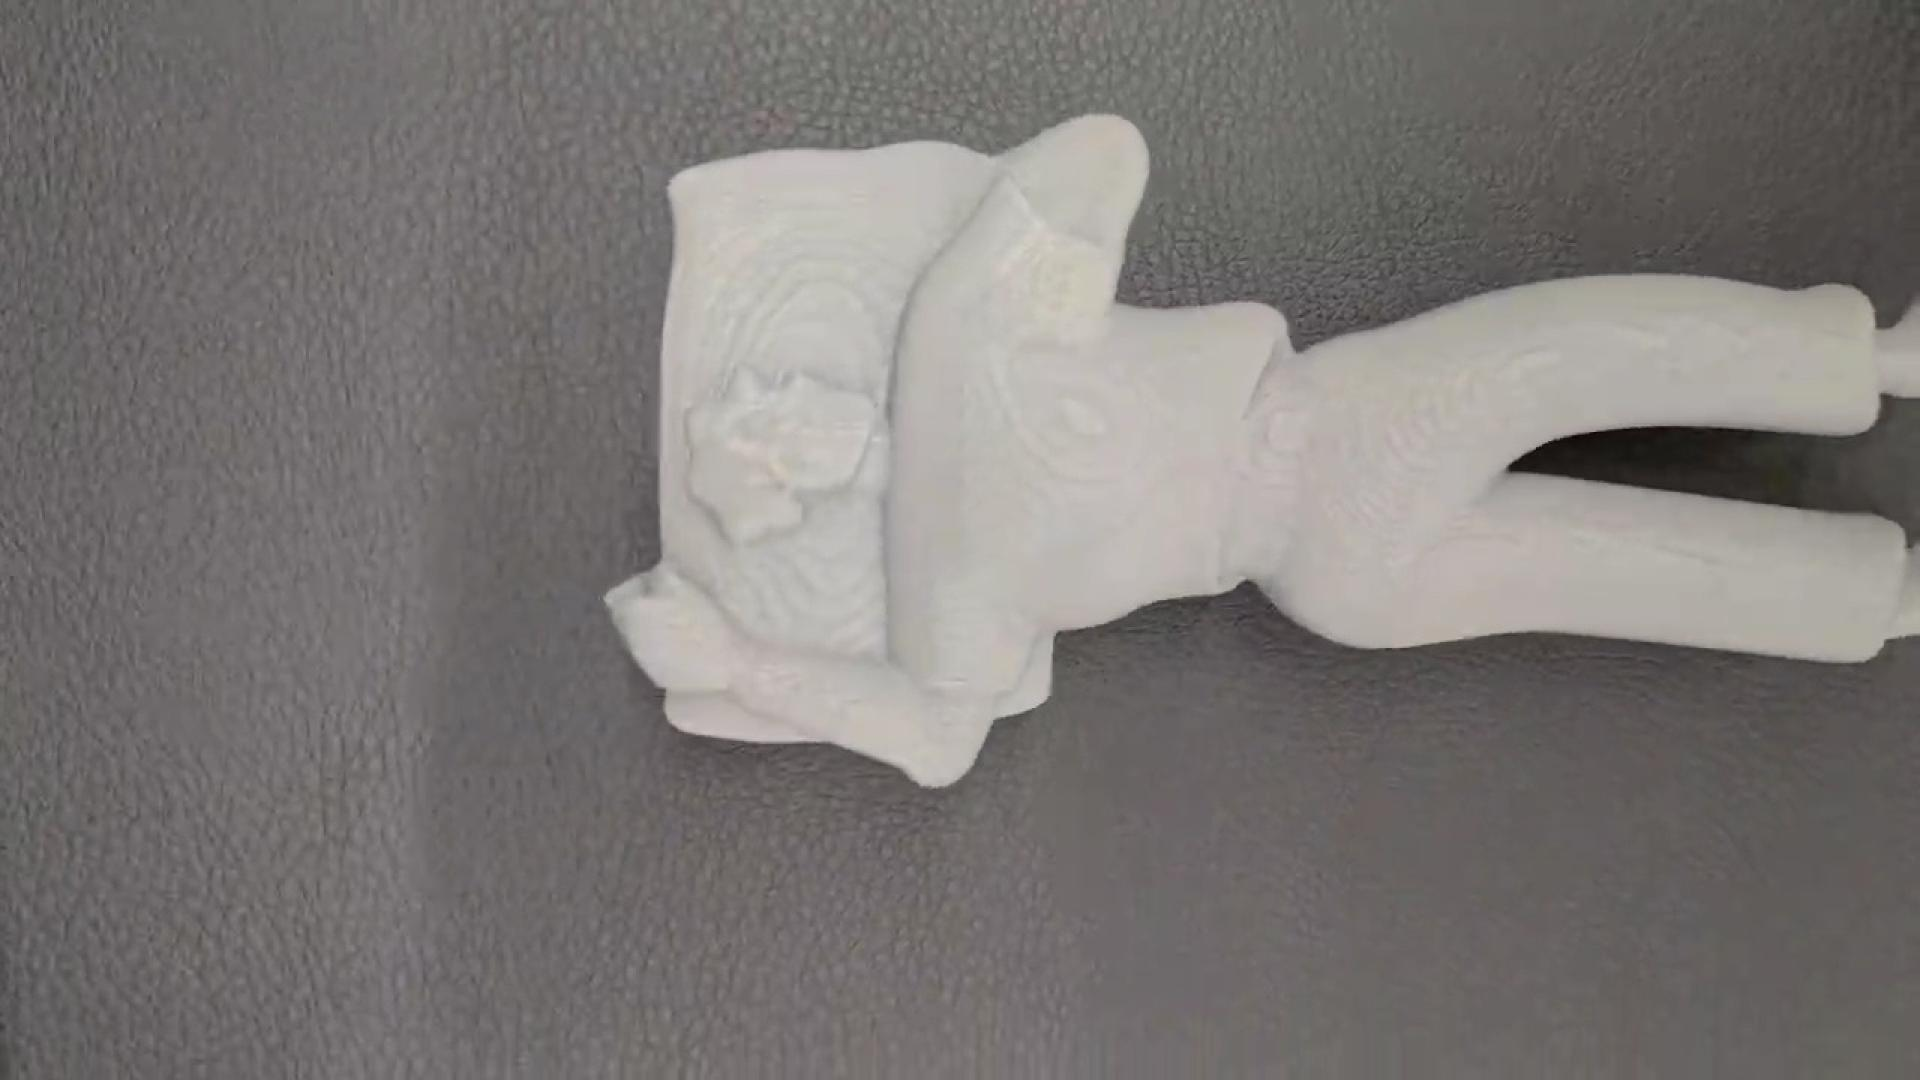Bad-style: (592, 90, 1920, 808)
